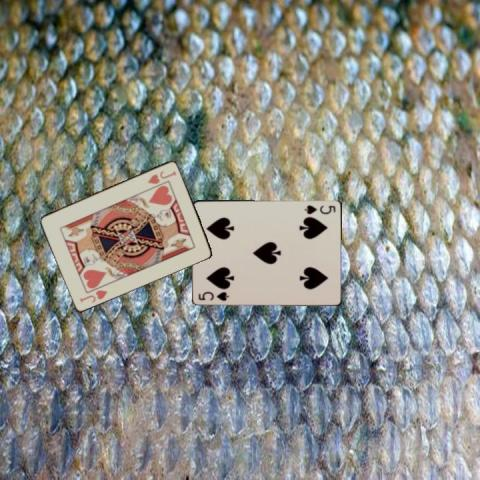5s: (301, 202, 337, 215), (196, 289, 231, 302)
Jh: (145, 167, 177, 185), (77, 287, 109, 304)
